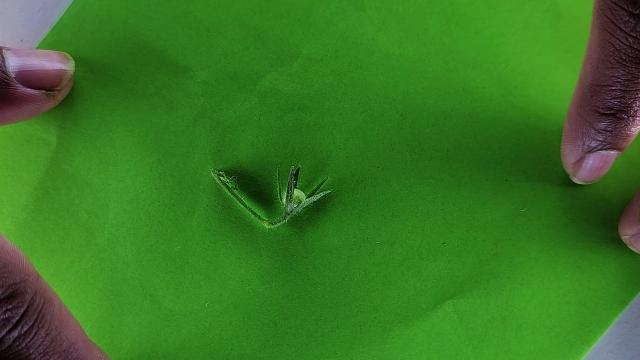Fruit Bud: (274, 164, 331, 227)
